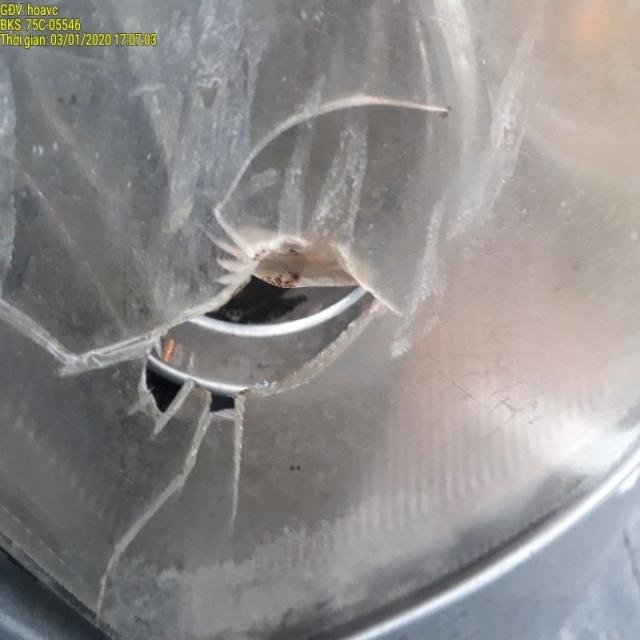Phare abime: (2, 89, 468, 614)
